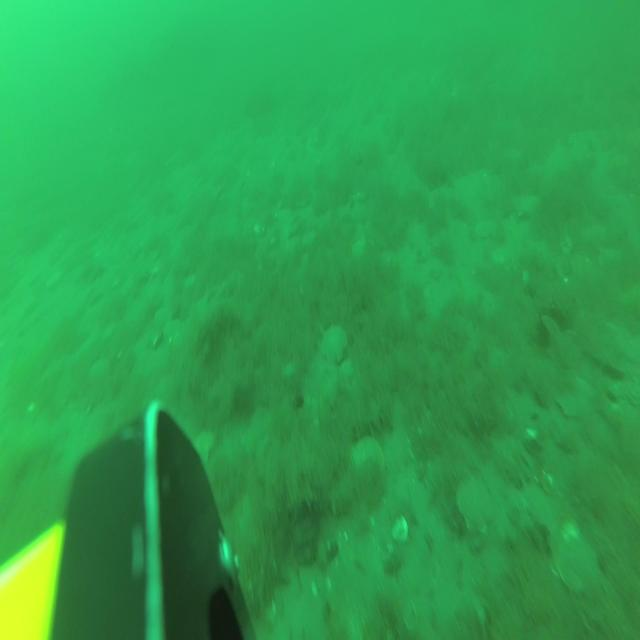scallop: (554, 534, 604, 598), (455, 478, 495, 540), (350, 433, 387, 485), (320, 320, 350, 370), (554, 382, 585, 419), (189, 427, 215, 467)
